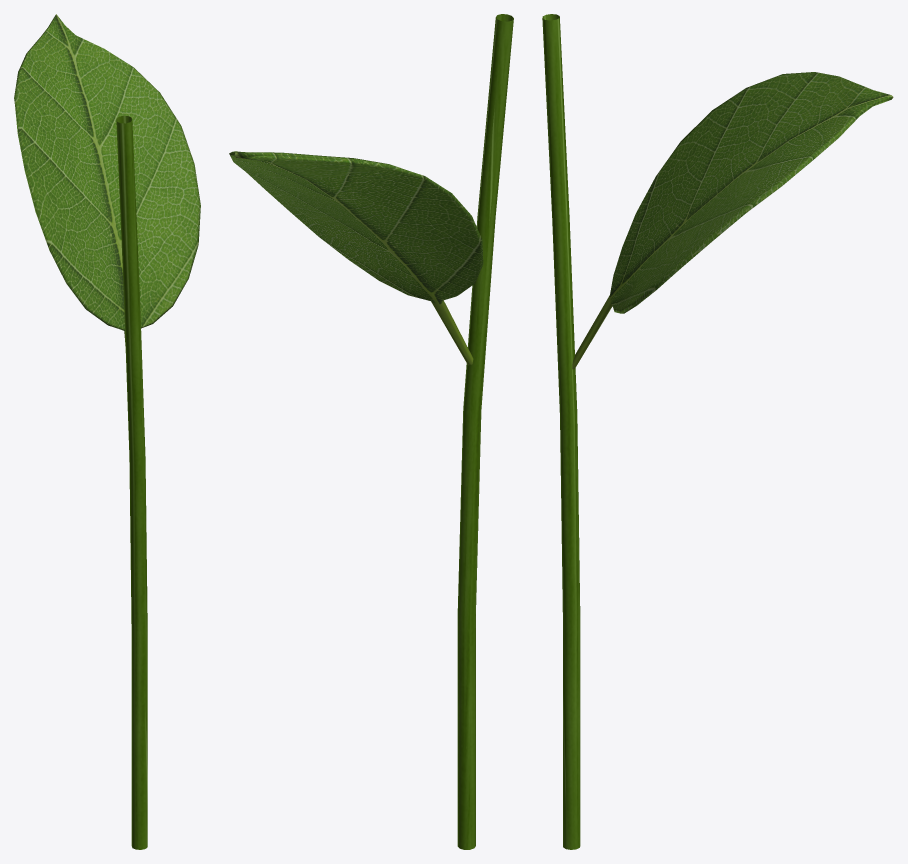
File: Stem2.fbx
3 renders of one model, left to right at view 1: azimuth 30°, elevation 25°; view 2: azimuth 150°, elevation 25°; view 3: azimuth 270°, elevation 25°, orthographic. The views are drawn at different scales.
Parts seen in each view (by area): view 1: NewLeaf, Stem; view 2: NewLeaf, Stem; view 3: NewLeaf, Stem.
Part boxes in pixels (box(x1,y1,x2,y2)): NewLeaf: box(14, 14, 200, 345); Stem: box(116, 115, 147, 849); NewLeaf: box(229, 151, 483, 365); Stem: box(457, 14, 513, 849); NewLeaf: box(572, 72, 893, 369); Stem: box(542, 14, 580, 849).
Size of the model in its own units: 24.62 by 99.98 by 38.98.
